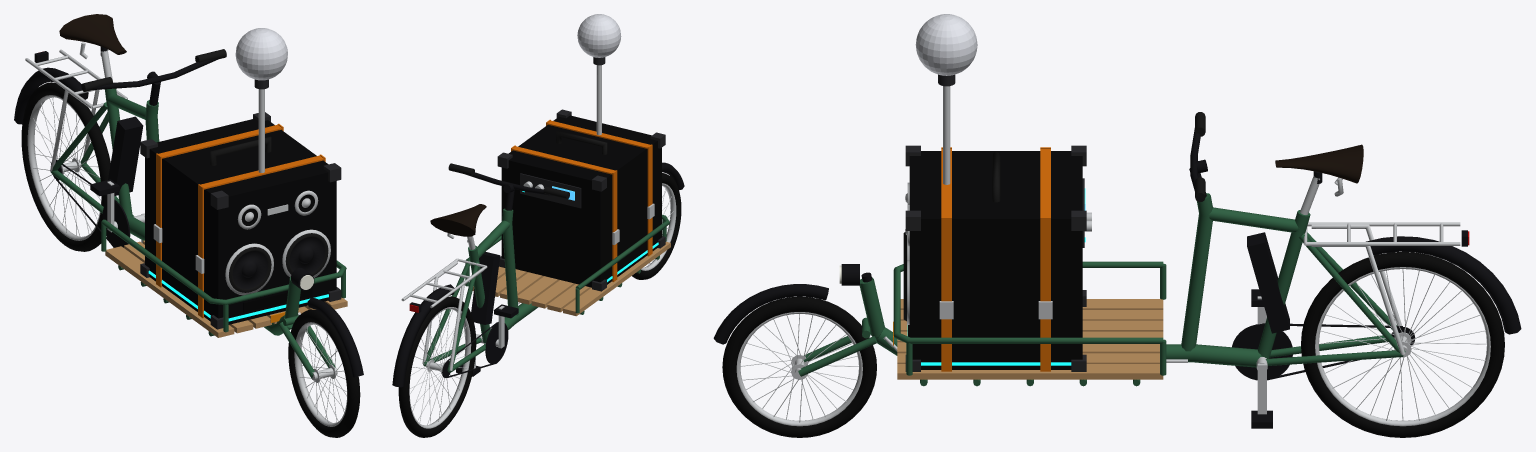
The model's file is soundjohn.glb.
3 renders of one model, left to right at view 1: azimuth 30°, elevation 25°; view 2: azimuth 150°, elevation 25°; view 3: azimuth 270°, elevation 25°, orthographic. The views are drawn at different scales.
Visible parts, largest first — view 1: frame, wheel_rear, wheel_front, disco, fork, bar, crank, light_front, pedal_r; view 2: frame, wheel_rear, disco, wheel_front, bar, crank; view 3: frame, wheel_rear, wheel_front, fork, disco, crank, bar.
Boxes of the visible parts, left/top/right/bottom form: frame: left=14, top=14, right=347, bottom=337; wheel_rear: left=21, top=82, right=114, bottom=251; wheel_front: left=288, top=309, right=360, bottom=437; disco: left=235, top=28, right=287, bottom=80; fork: left=279, top=297, right=363, bottom=378; bar: left=81, top=49, right=226, bottom=105; crank: left=102, top=181, right=144, bottom=247; light_front: left=291, top=268, right=314, bottom=290; pedal_r: left=90, top=179, right=119, bottom=196; frame: left=392, top=57, right=670, bottom=387; wheel_rear: left=398, top=296, right=476, bottom=437; disco: left=577, top=14, right=621, bottom=57; wheel_front: left=632, top=173, right=681, bottom=279; bar: left=448, top=163, right=569, bottom=210; crank: left=473, top=306, right=508, bottom=368; frame: left=859, top=74, right=1521, bottom=386; wheel_rear: left=1301, top=252, right=1504, bottom=437; wheel_front: left=722, top=296, right=876, bottom=437; fork: left=713, top=272, right=877, bottom=376; disco: left=915, top=14, right=977, bottom=75; crank: left=1232, top=296, right=1292, bottom=414; bar: left=1189, top=112, right=1207, bottom=201.
Bounding box in the file's own units: 0.6236 × 1.5 × 2.61.
